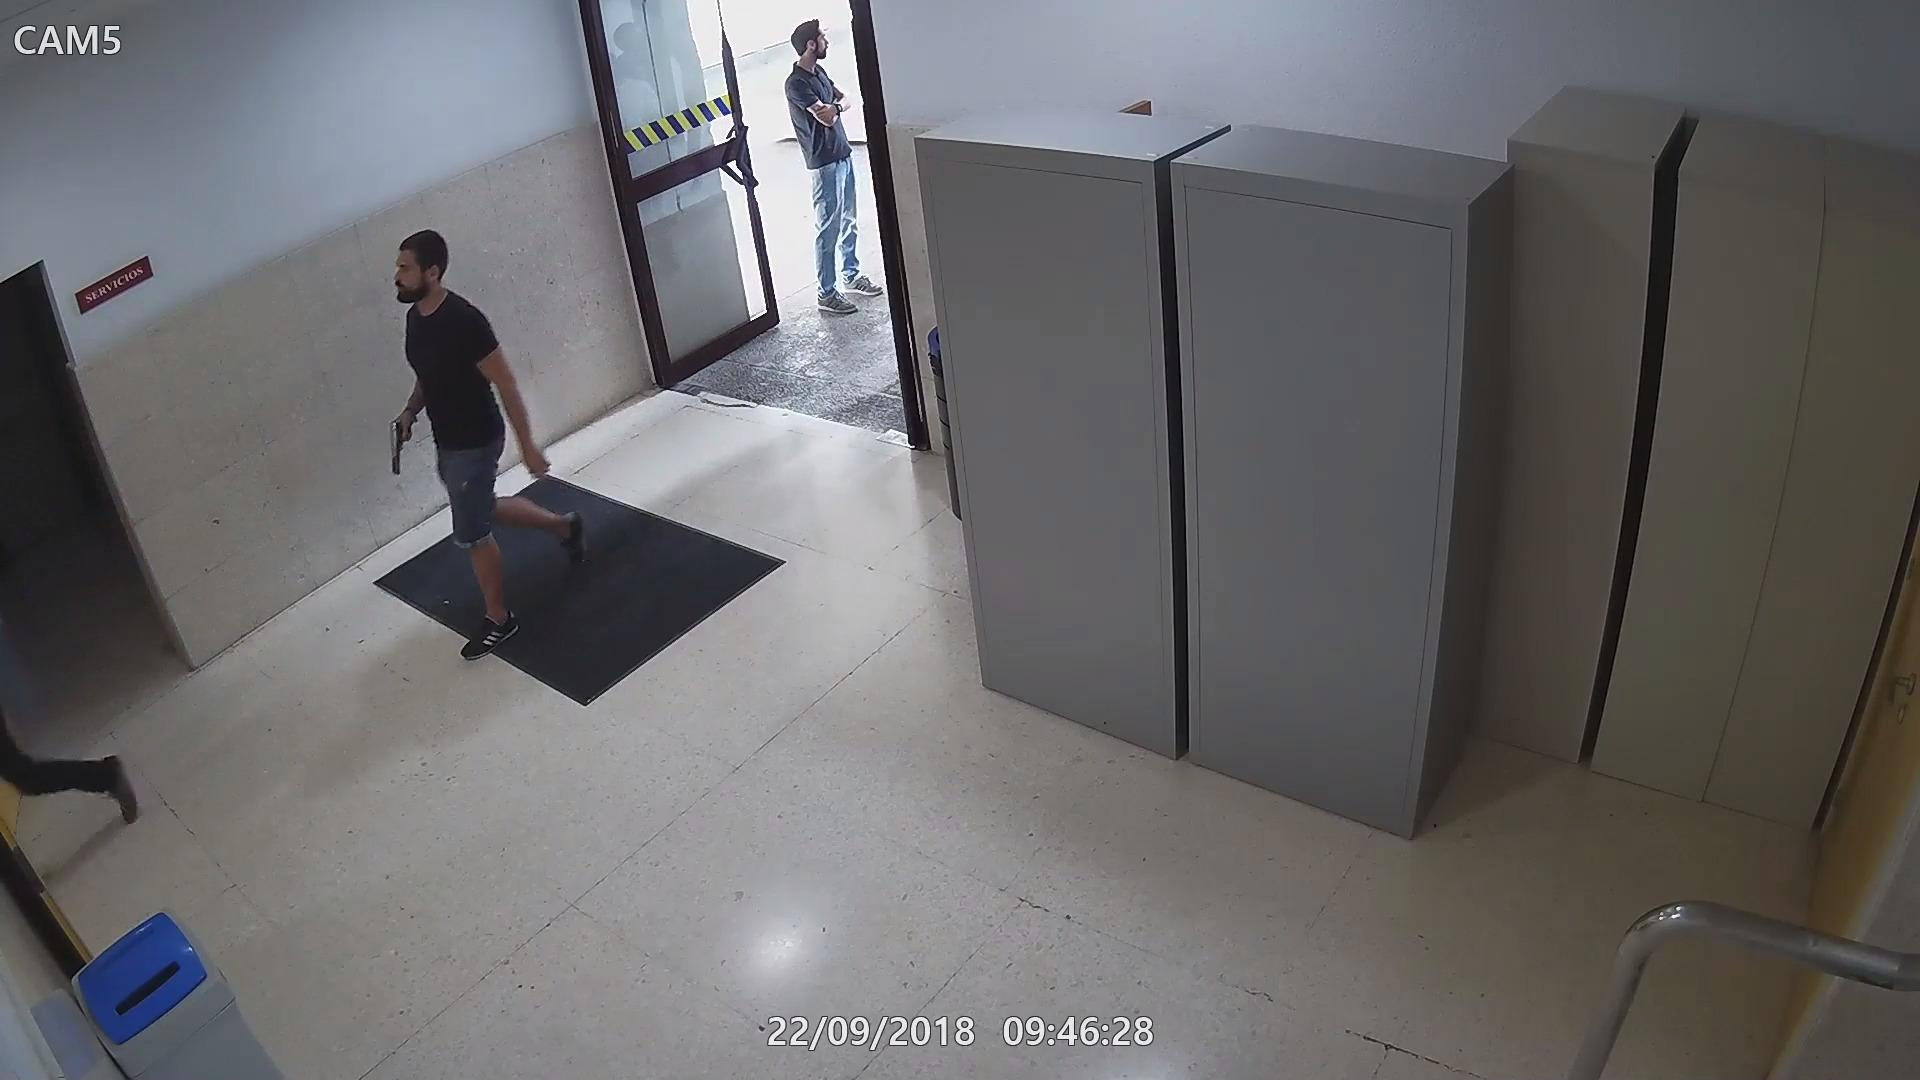Handgun: (388, 417, 417, 477)
